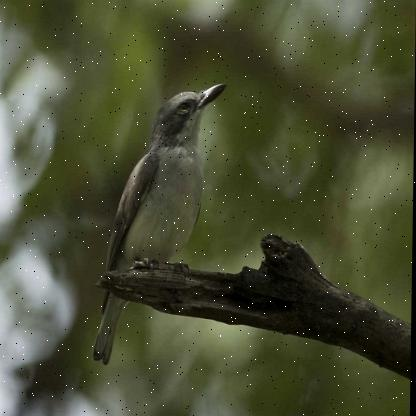Burung: (95, 83, 227, 364)
